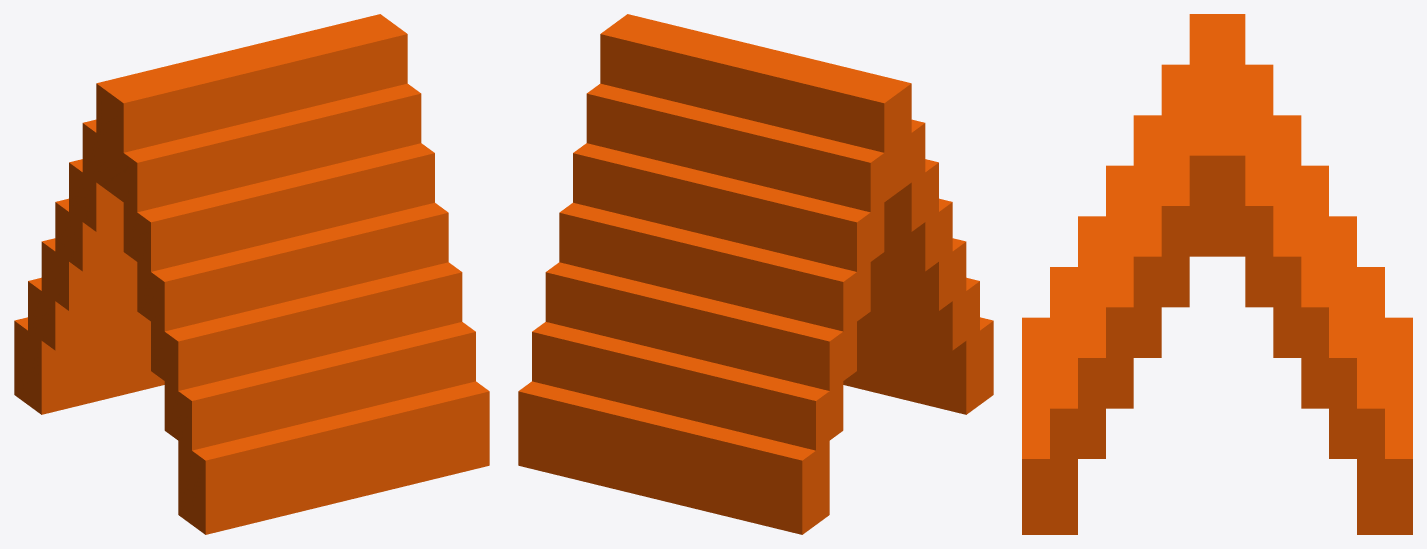
File: chais pas ce que c'est.obj
The picture shows the model from 3 angles, left to right: view 1: azimuth 30°, elevation 25°; view 2: azimuth 150°, elevation 25°; view 3: azimuth 270°, elevation 25°; orthographic projection. The views are drawn at different scales.
Bounding box in the file's own units: 1.2 × 1.5 × 1.4.
Materials: 1 (1 with a texture image).
